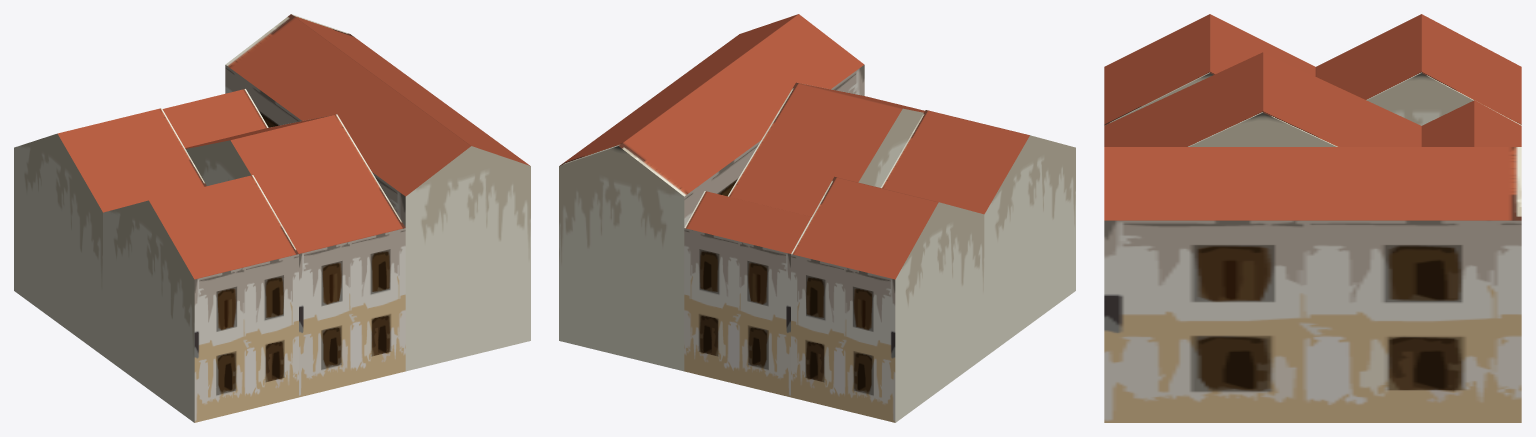
The model's file is SM_Building_Clump_01.fbx.
3 views of the same model, side by side, from view 1: azimuth 30°, elevation 25°; view 2: azimuth 150°, elevation 25°; view 3: azimuth 270°, elevation 25° (orthographic). The views are drawn at different scales.
Parts seen in each view (by area): view 1: SM_Building_Clump_01_LOD0; view 2: SM_Building_Clump_01_LOD0; view 3: SM_Building_Clump_01_LOD0.
Boxes of the visible parts, box(x1,y1,x2,y2) form: SM_Building_Clump_01_LOD0: box(14, 14, 530, 422); SM_Building_Clump_01_LOD0: box(559, 14, 1075, 422); SM_Building_Clump_01_LOD0: box(1104, 14, 1521, 422).
Size of what is drawn, in the model's own units: 17 by 10.11 by 15.79.
